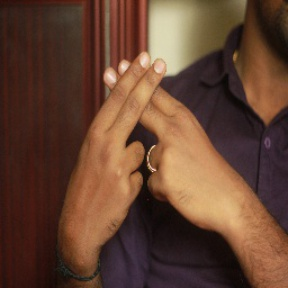F: (83, 42, 200, 179)
